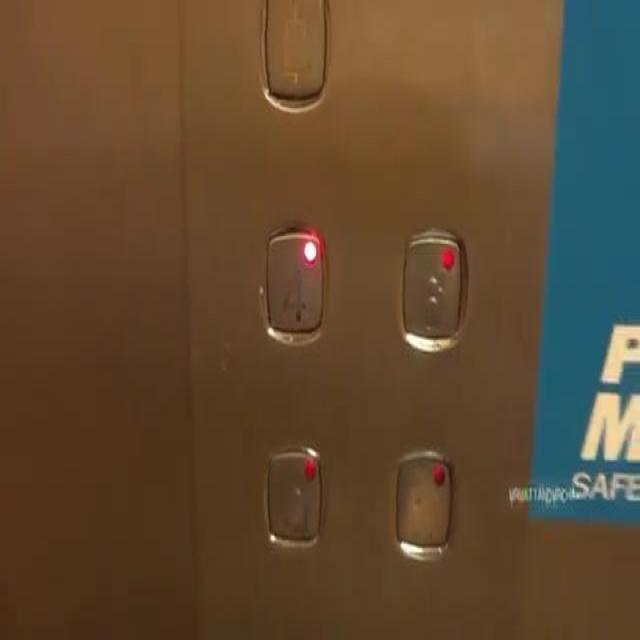4: (260, 218, 328, 350)
6: (392, 216, 470, 356)
alarm: (254, 0, 331, 117)
blur: (387, 436, 461, 567), (258, 435, 326, 552)
